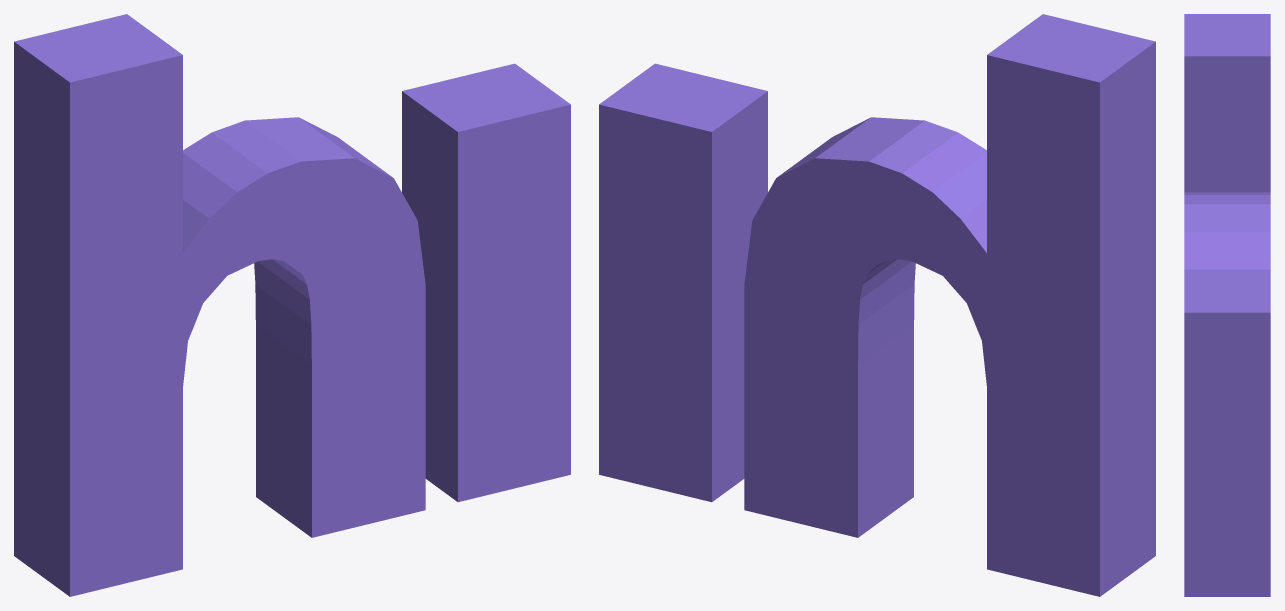
Rendered from suku_kecil_hi.glb.
The picture shows the model from 3 angles, left to right: view 1: azimuth 30°, elevation 25°; view 2: azimuth 150°, elevation 25°; view 3: azimuth 270°, elevation 25°; orthographic projection. The views are drawn at different scales.
Parts seen in each view (by area): view 1: geometry_0; view 2: geometry_0; view 3: geometry_0.
Part boxes in pixels (x1,y1,x2,y2): geometry_0: (14, 14, 570, 596); geometry_0: (599, 14, 1155, 596); geometry_0: (1184, 14, 1270, 596).
Size of the model in its own units: 7.74 by 7.6 by 1.5.
